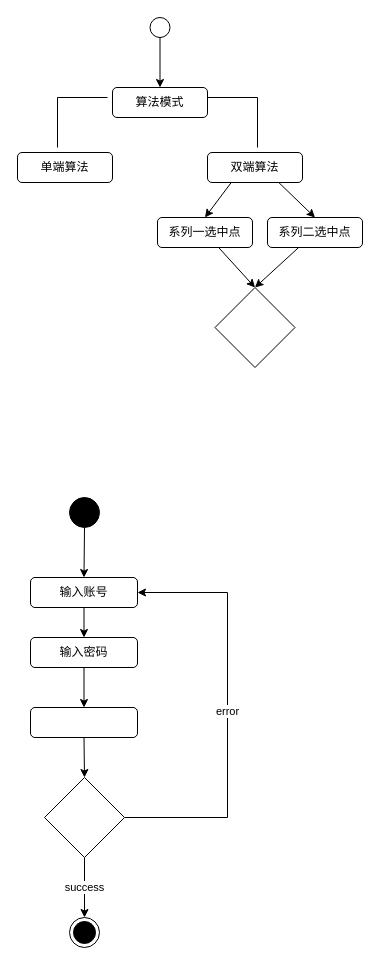
Some shapes in this 380 by 965 pixel diagram are drawn without their labels. Each missing label, with the centre of its shape:
"check" belongs at point (84, 817).
"校验" belongs at point (254, 327).
"点击登录" belongs at point (84, 722).
